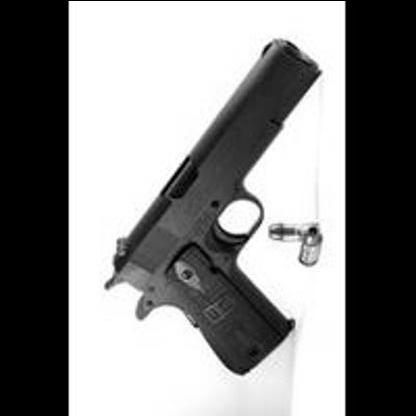weapon: (98, 34, 324, 382)
